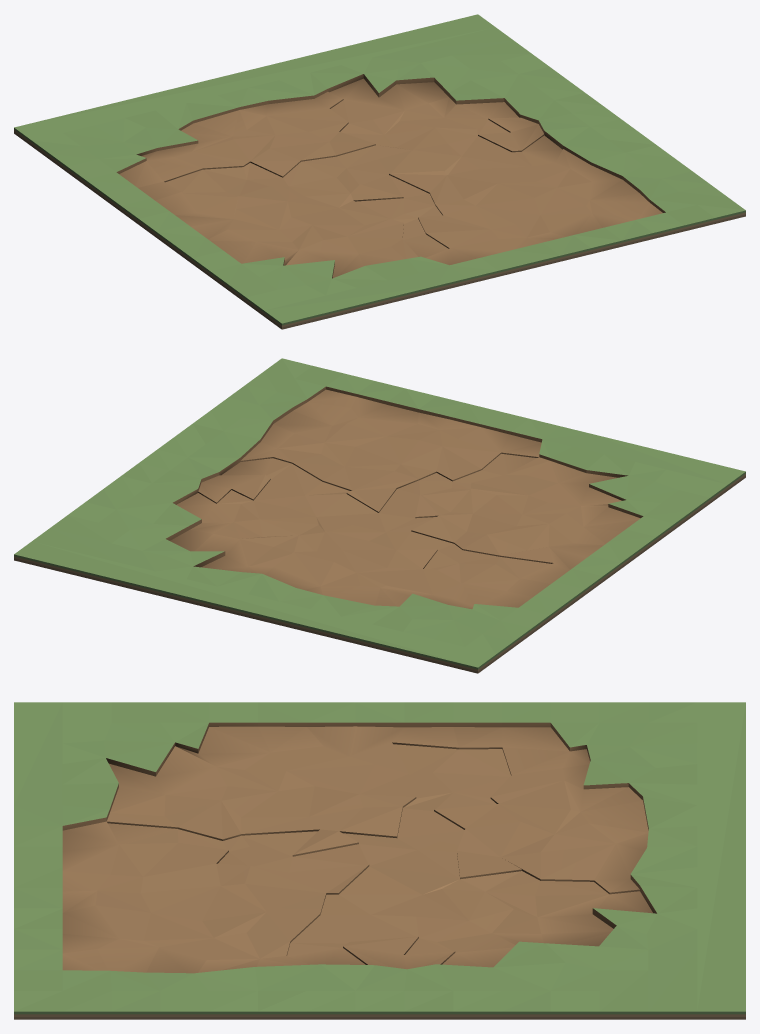
The model's file is t_dirt.glb.
3 renders of one model, top to bottom at view 1: azimuth 30°, elevation 25°; view 2: azimuth 150°, elevation 25°; view 3: azimuth 270°, elevation 25°, orthographic. The views are drawn at different scales.
Parts seen in each view (by area): view 1: t_dirt; view 2: t_dirt; view 3: t_dirt.
Part boxes in pixels (x1,y1,x2,y2): t_dirt: [14, 14, 745, 329]; t_dirt: [14, 358, 745, 673]; t_dirt: [14, 702, 745, 1019].
Size of the model in its own units: 4 by 0.05 by 4.
